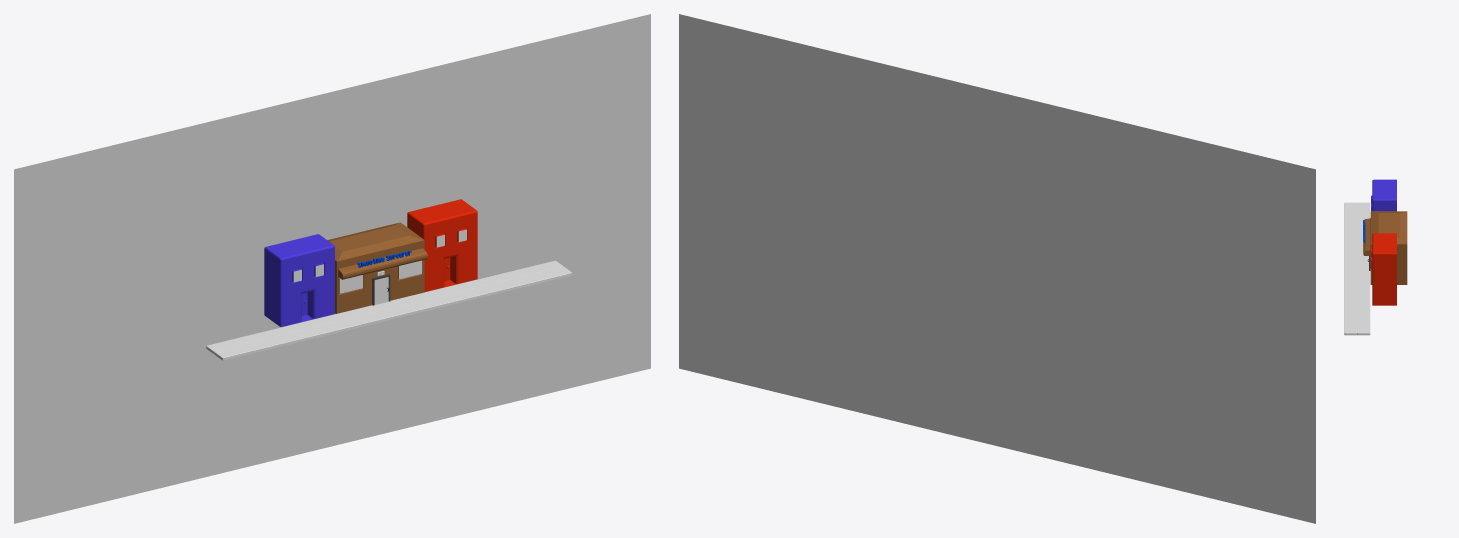
The model's file is Store_front_new_colors.fbx.
The picture shows the model from 3 angles, left to right: view 1: azimuth 30°, elevation 25°; view 2: azimuth 150°, elevation 25°; view 3: azimuth 270°, elevation 25°; orthographic projection. The views are drawn at different scales.
Parts seen in each view (by area): view 1: Plane, Sidewalk, Building, Building_left, building_right; view 2: Plane; view 3: Sidewalk, building_right, Building, Building_left.
Part boxes in pixels (<box>): Plane: <box>14,14,650,523</box>; Sidewalk: <box>206,260,571,360</box>; Building: <box>327,222,427,313</box>; Building_left: <box>264,234,334,326</box>; building_right: <box>407,199,477,291</box>; Plane: <box>679,14,1315,523</box>; Sidewalk: <box>1344,202,1370,335</box>; building_right: <box>1371,233,1396,305</box>; Building: <box>1363,211,1407,284</box>; Building_left: <box>1371,179,1396,211</box>.
Bounding box in the file's own units: 4503 × 2395 × 800.
